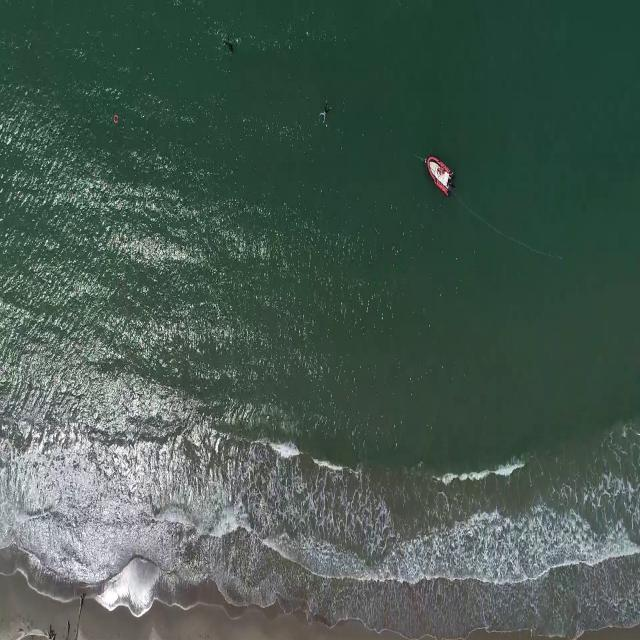boat: (426, 152, 453, 197)
life_buoy: (112, 112, 120, 124)
person: (319, 100, 333, 126), (222, 36, 237, 55)
wood: (64, 589, 85, 640), (0, 624, 61, 640)
